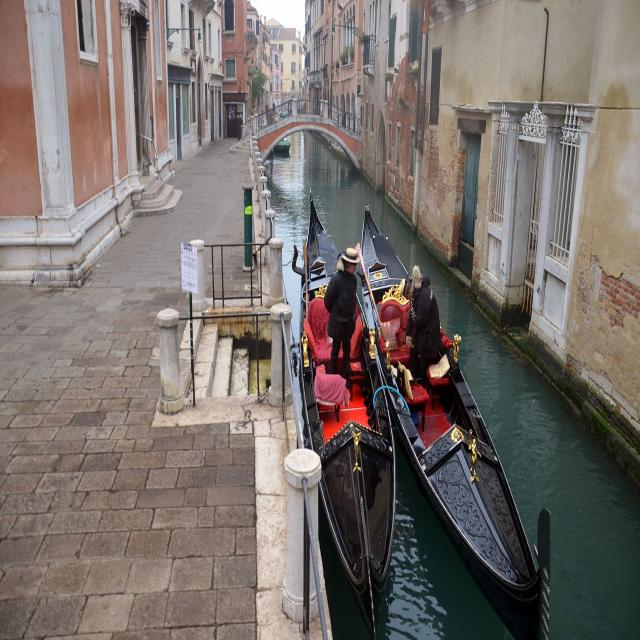boat: (351, 164, 573, 629), (288, 187, 401, 637)
